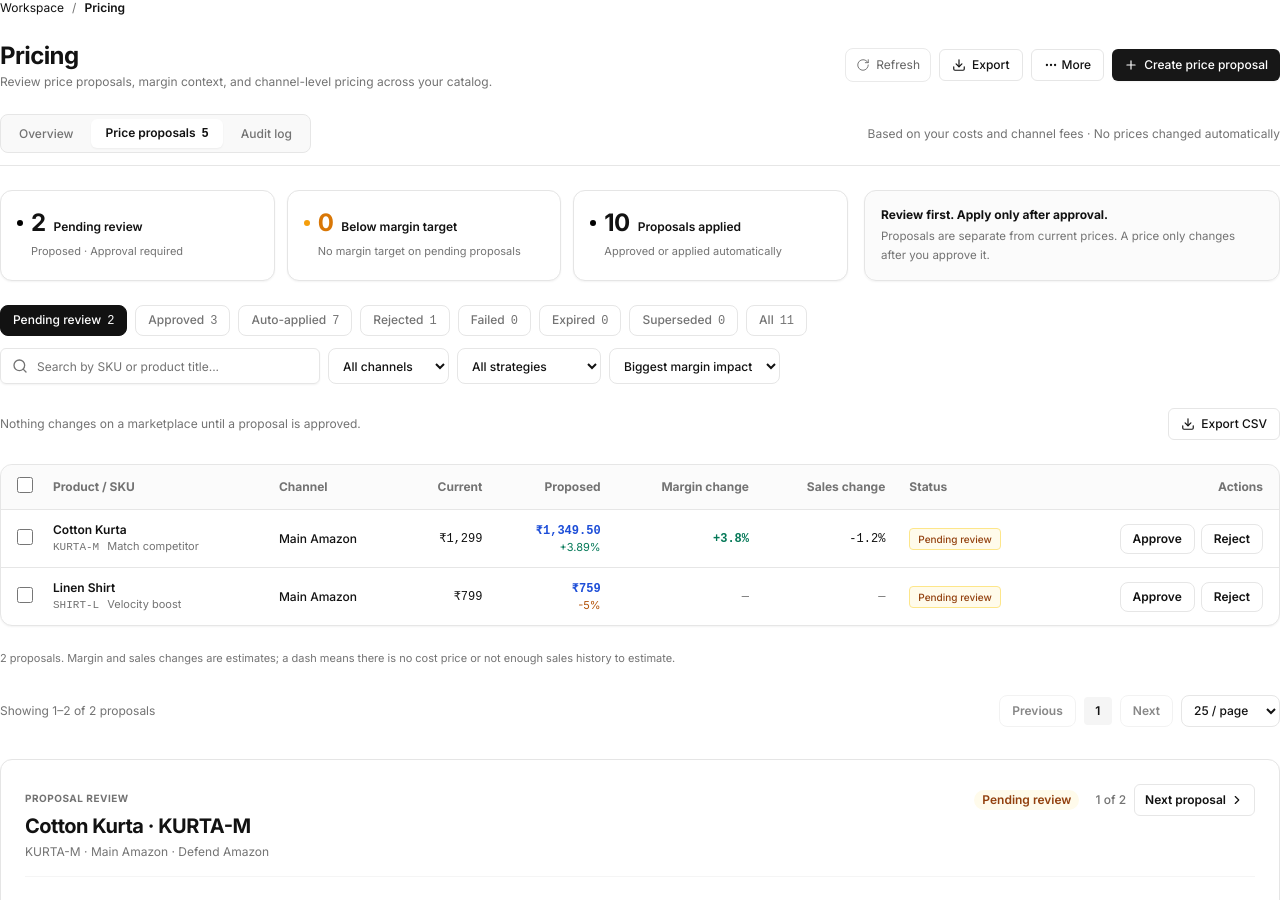
Test: PricingPage proposals › shows the KPI tiles from the overview and the proposals with prices, changes and reasoning
This screenshot has width=1280, height=900.
Expected: the text "₹1,299" is shown, x1=403 y1=510 x2=494 y2=568
Expected: the text "₹1,349.50" is shown, x1=536 y1=524 x2=601 y2=538
Step 1. Click the button "Cotton Kurta" → click(90, 530), box x1=53 y1=522 x2=127 y2=538
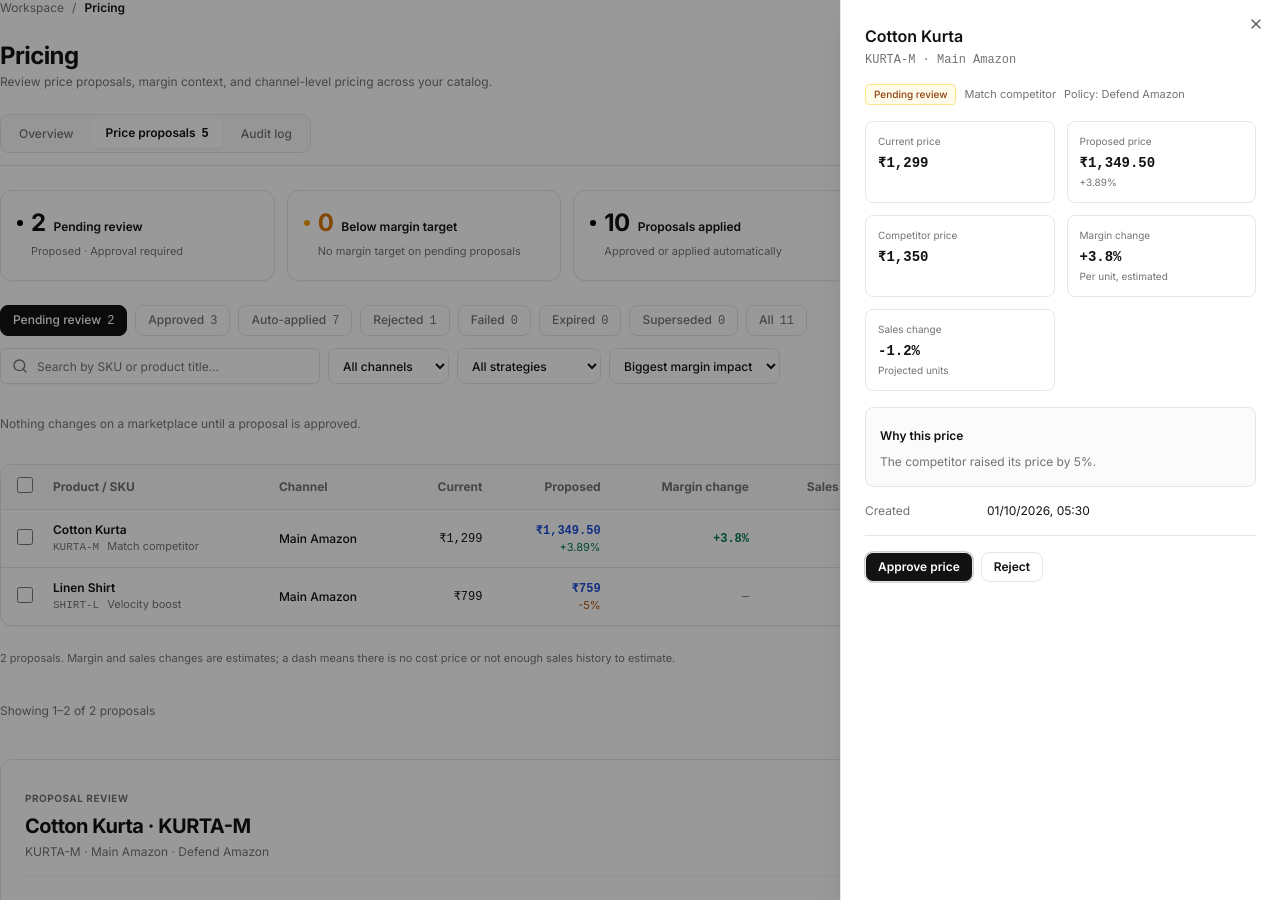
Expected: the text "The competitor raised its price by 5%." is shown, x1=880 y1=454 x2=1096 y2=469
Expected: the text "₹1,350" is shown, x1=878 y1=249 x2=928 y2=265
